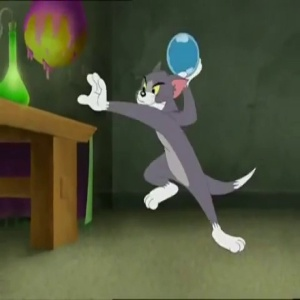Tom: (130, 63, 184, 113)
